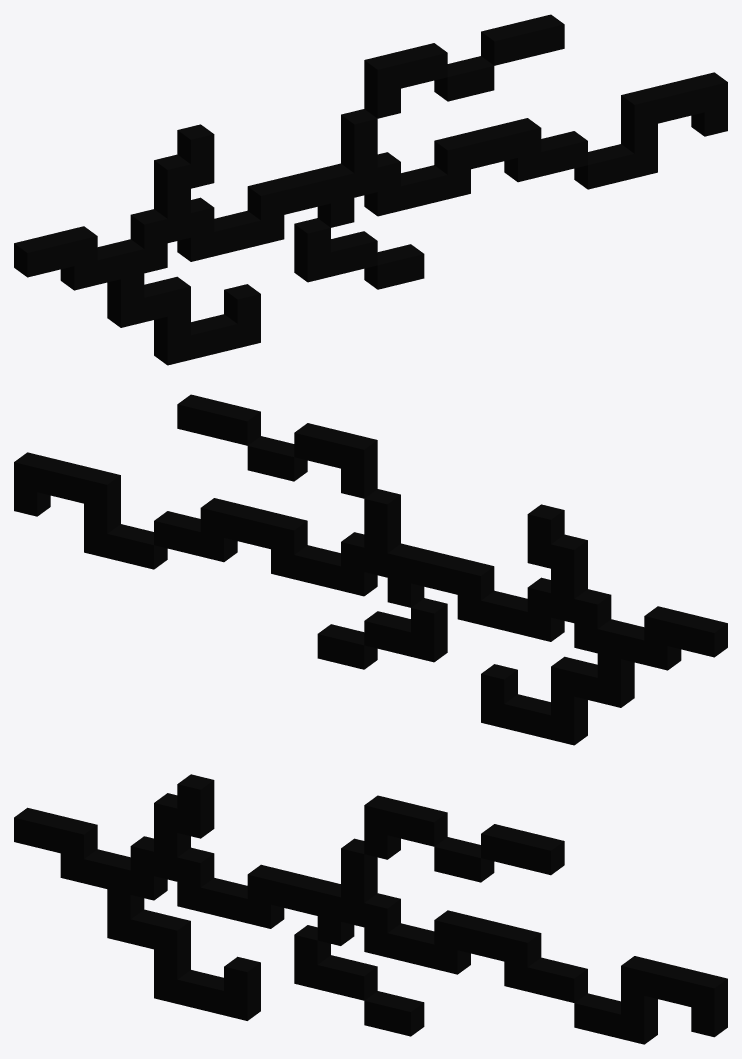
File: Gauge_Gore03_Empty.002.fbx
3 views of the same model, one above another, from view 1: azimuth 30°, elevation 25°; view 2: azimuth 150°, elevation 25°; view 3: azimuth 330°, elevation 25° (orthographic).
Visible parts, largest first — view 1: Gauge_Gore03_Empty.002; view 2: Gauge_Gore03_Empty.002; view 3: Gauge_Gore03_Empty.002.
Boxes of the visible parts, x1,y1,x2,y2 form: Gauge_Gore03_Empty.002: (14,14,727,365); Gauge_Gore03_Empty.002: (14,394,727,745); Gauge_Gore03_Empty.002: (14,774,727,1044).
Bounding box in the file's own units: 3 × 1 × 0.1.
